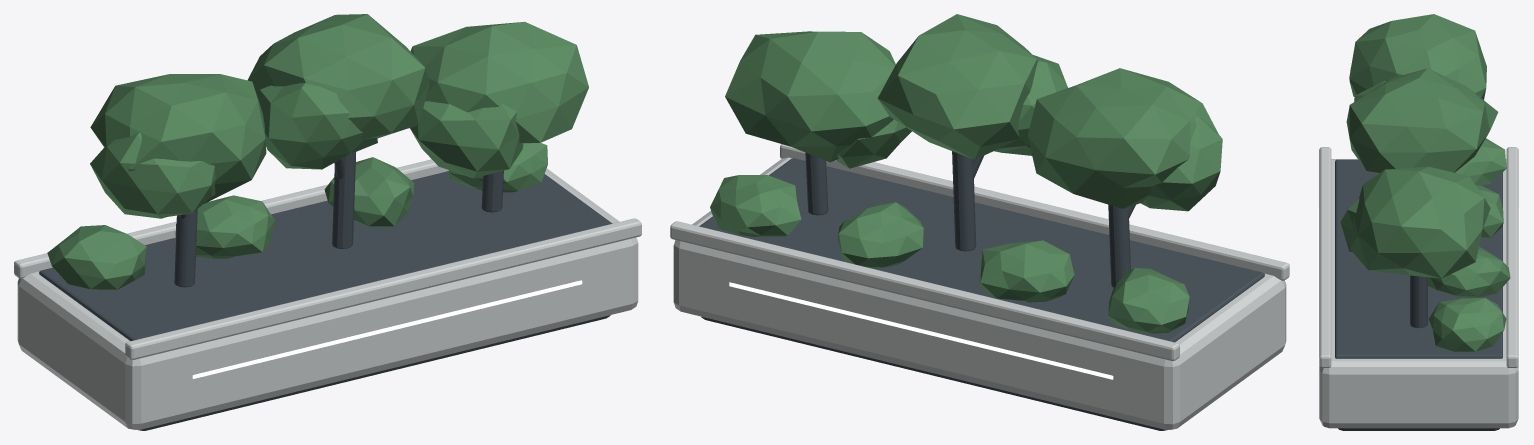
File: SkyPlanter.fbx
The picture shows the model from 3 angles, left to right: view 1: azimuth 30°, elevation 25°; view 2: azimuth 150°, elevation 25°; view 3: azimuth 270°, elevation 25°; orthographic projection. The views are drawn at different scales.
Visible parts, largest first — view 1: SkyPlanter_SC_Foliage, SkyPlanter_SC_Concrete, SkyPlanter_SC_Metal, SkyPlanter_SC_Warm; view 2: SkyPlanter_SC_Foliage, SkyPlanter_SC_Concrete, SkyPlanter_SC_Metal, SkyPlanter_SC_Warm; view 3: SkyPlanter_SC_Foliage, SkyPlanter_SC_Concrete, SkyPlanter_SC_Metal, SkyPlanter_SC_Warm.
Part boxes in pixels (x1,y1,x2,y2): SkyPlanter_SC_Foliage: (47,14,588,289); SkyPlanter_SC_Concrete: (14,159,641,429); SkyPlanter_SC_Metal: (39,152,612,430); SkyPlanter_SC_Warm: (192,280,582,378); SkyPlanter_SC_Foliage: (710,14,1222,333); SkyPlanter_SC_Concrete: (670,144,1289,429); SkyPlanter_SC_Metal: (699,151,1264,430); SkyPlanter_SC_Warm: (729,282,1113,379); SkyPlanter_SC_Foliage: (1340,14,1510,351); SkyPlanter_SC_Concrete: (1319,147,1518,428); SkyPlanter_SC_Metal: (1335,159,1502,430); SkyPlanter_SC_Warm: (1318,208,1519,370).
Bounding box in the file's own units: 5 × 2.93 × 2.02.
